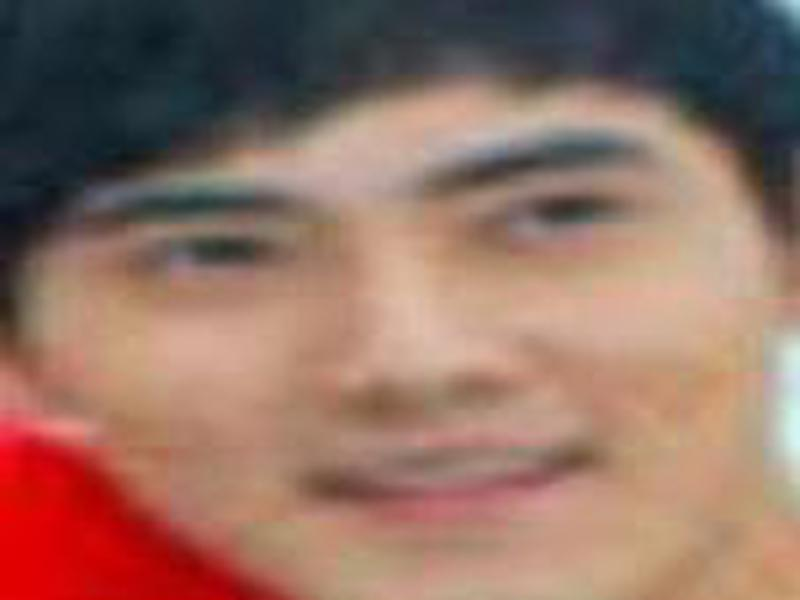without_mask: (31, 50, 765, 585)
